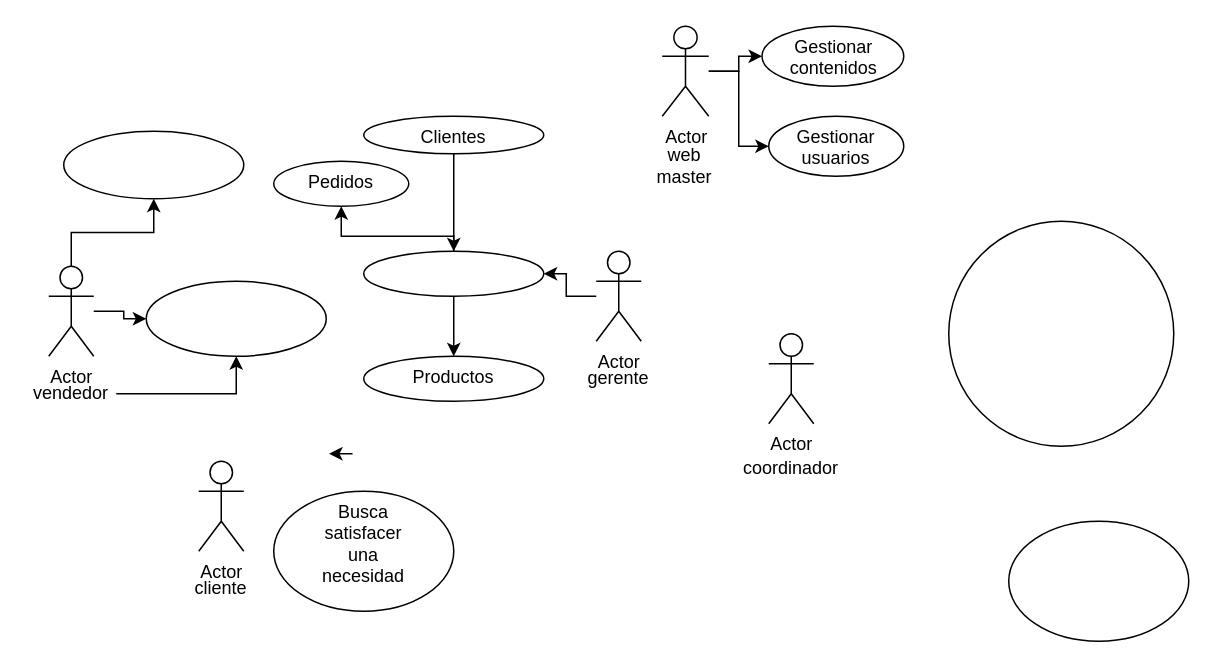
The diagram is 1215 pixels wide and 668 high, and some of its shapes have lost their labels. The centre of each missing label's shape, as x and y in pixels:
"-Supervisa las tareas del equipo _ Coordina las actividades del grupo de trabajo" belongs at point (1060, 333).
"Consultar pedidos" belongs at point (235, 318).
"Generar reportes" belongs at point (453, 273).
"Gestionar clientes" belongs at point (153, 164).
